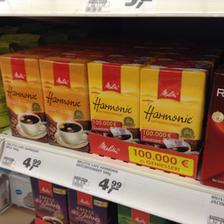Kaffee: (139, 58, 209, 150), (38, 52, 94, 152), (84, 55, 140, 141), (0, 49, 46, 141)
